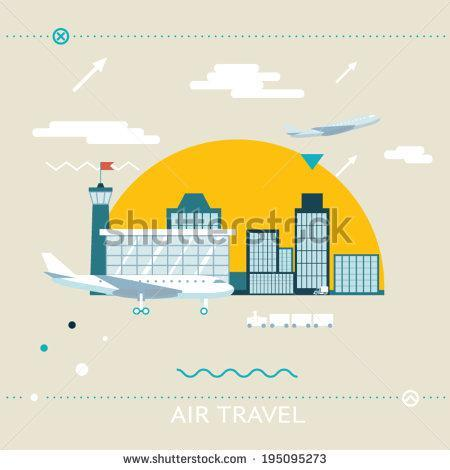aeroplane: (34, 245, 236, 329), (279, 102, 385, 153)
